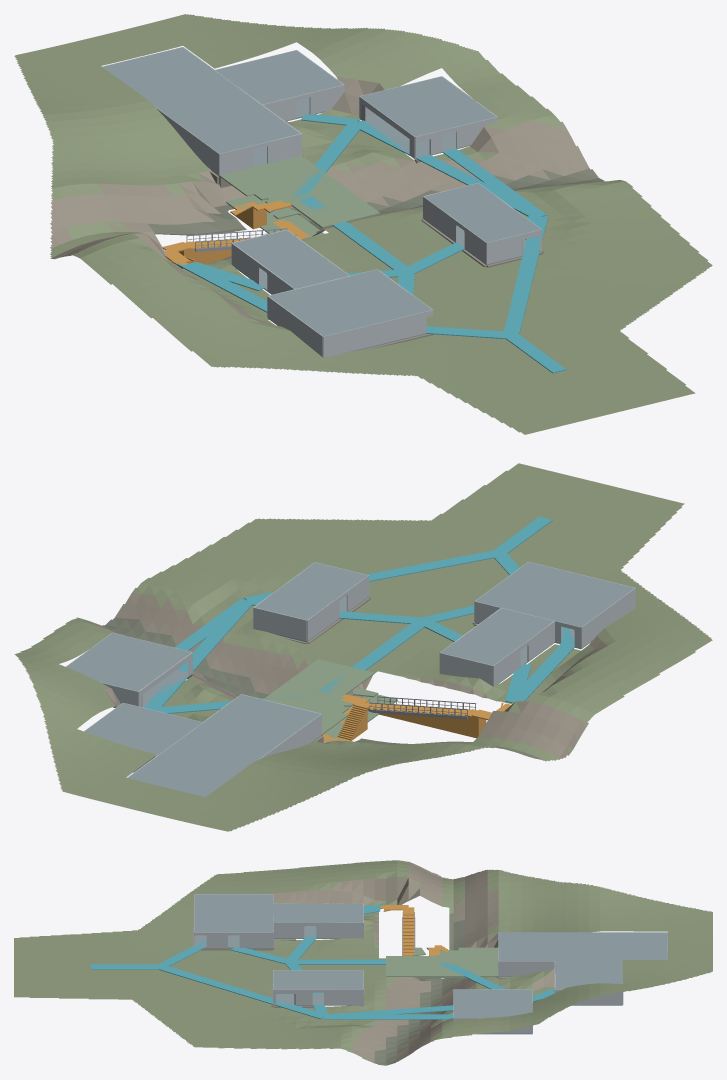
File: guarded-stairs.glb
3 views of the same model, one above another, from view 1: azimuth 30°, elevation 25°; view 2: azimuth 150°, elevation 25°; view 3: azimuth 270°, elevation 25° (orthographic). The views are drawn at different scales.
Parts seen in each view (by area): view 1: Saved editor stair bench terrain WLD-12, Ceiling cap tunnel, Ceiling cap signal, Ceiling cap store, Ceiling cap refuge, Ceiling cap coach-b, Ceiling cap coach-a, Flat route shell Wall signal S, L04 support 0, Floor trestle.008, L14 support 0, Floor trestle.005 (+15 smaller); view 2: Saved editor stair bench terrain WLD-12, Ceiling cap tunnel, Ceiling cap signal, Ceiling cap store, Ceiling cap refuge, Ceiling cap coach-b, Ceiling cap coach-a, Floor trestle.008, L14 support 0, L04 support 0, Wall coach-b N, Wall signal W (+10 smaller); view 3: Saved editor stair bench terrain WLD-12, Ceiling cap tunnel, Ceiling cap signal, Ceiling cap store, Ceiling cap coach-b, Ceiling cap coach-a, Ceiling cap refuge, L04 support 0, Floor trestle.008, Flat route shell Wall coach-a E, L15 support 0, Flat route shell Wall tunnel E.001 (+15 smaller).
Part boxes in pixels (<box>): Saved editor stair bench terrain WLD-12: <box>14,14,712,434</box>; Ceiling cap tunnel: <box>102,47,299,153</box>; Ceiling cap signal: <box>269,269,432,336</box>; Ceiling cap store: <box>360,76,496,136</box>; Ceiling cap refuge: <box>215,50,342,104</box>; Ceiling cap coach-b: <box>424,183,540,242</box>; Ceiling cap coach-a: <box>233,230,349,288</box>; Flat route shell Wall signal S: <box>323,310,432,357</box>; L04 support 0: <box>503,216,547,335</box>; Floor trestle.008: <box>293,188,380,226</box>; L14 support 0: <box>354,120,545,218</box>; Floor trestle.005: <box>248,155,324,185</box>; Saved editor stair bench terrain WLD-12: <box>14,463,712,831</box>; Ceiling cap tunnel: <box>128,694,320,796</box>; Ceiling cap signal: <box>475,562,634,627</box>; Ceiling cap store: <box>66,633,191,691</box>; Ceiling cap refuge: <box>84,703,202,755</box>; Ceiling cap coach-b: <box>255,562,367,619</box>; Ceiling cap coach-a: <box>440,608,553,665</box>; Floor trestle.008: <box>285,659,369,695</box>; L14 support 0: <box>144,599,253,710</box>; L04 support 0: <box>244,550,501,602</box>; Wall coach-b N: <box>253,607,306,641</box>; Wall signal W: <box>581,588,635,648</box>; Saved editor stair bench terrain WLD-12: <box>14,860,712,1065</box>; Ceiling cap tunnel: <box>498,932,667,960</box>; Ceiling cap signal: <box>194,894,273,932</box>; Ceiling cap store: <box>453,989,532,1018</box>; Ceiling cap coach-b: <box>273,970,363,989</box>; Ceiling cap coach-a: <box>273,903,363,922</box>; Ceiling cap refuge: <box>555,961,622,989</box>; L04 support 0: <box>157,965,325,1019</box>; Floor trestle.008: <box>386,957,434,976</box>; Flat route shell Wall coach-a E: <box>316,922,363,938</box>; L15 support 0: <box>324,1014,453,1019</box>; Flat route shell Wall tunnel E.001: <box>498,961,554,976</box>.
Bounding box in the file's own units: 75 × 10.11 × 124.
31 materials, 14 textured.
